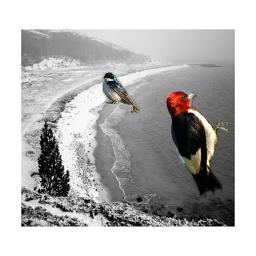Swallow: (102, 72, 140, 115)
Woodpecker: (165, 90, 231, 199)
